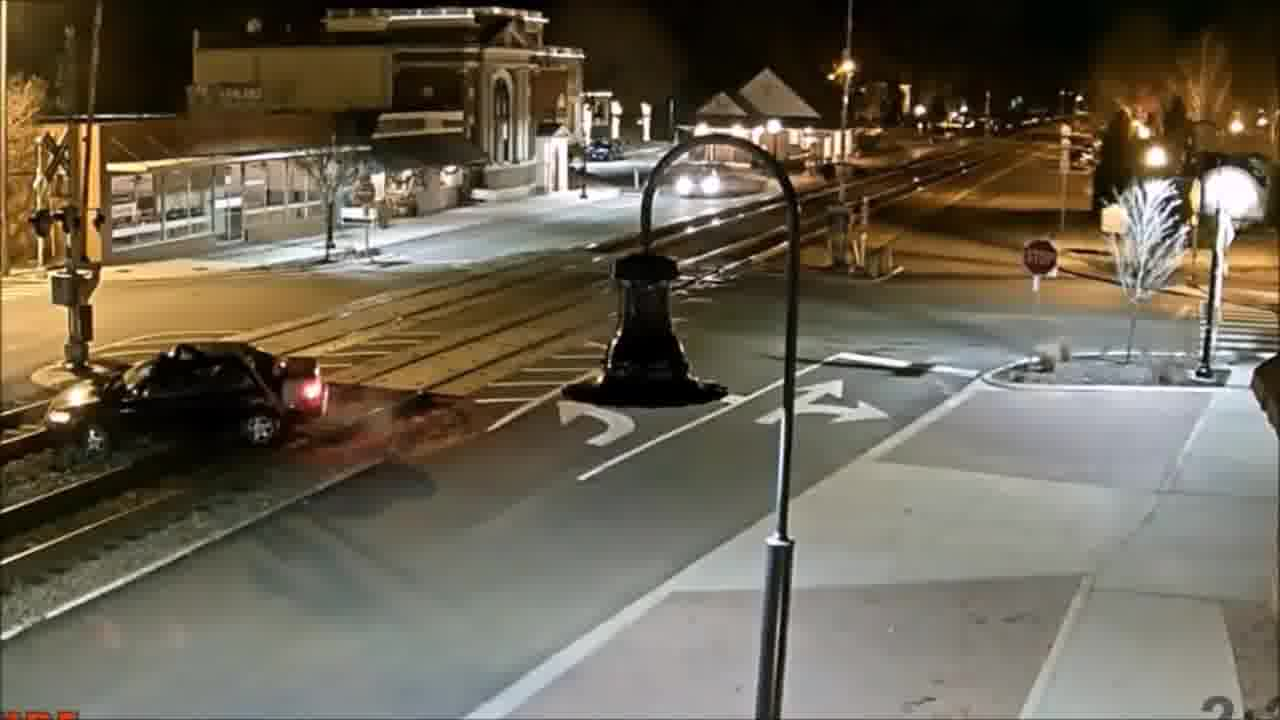crossing railway track: (35, 323, 319, 468)
